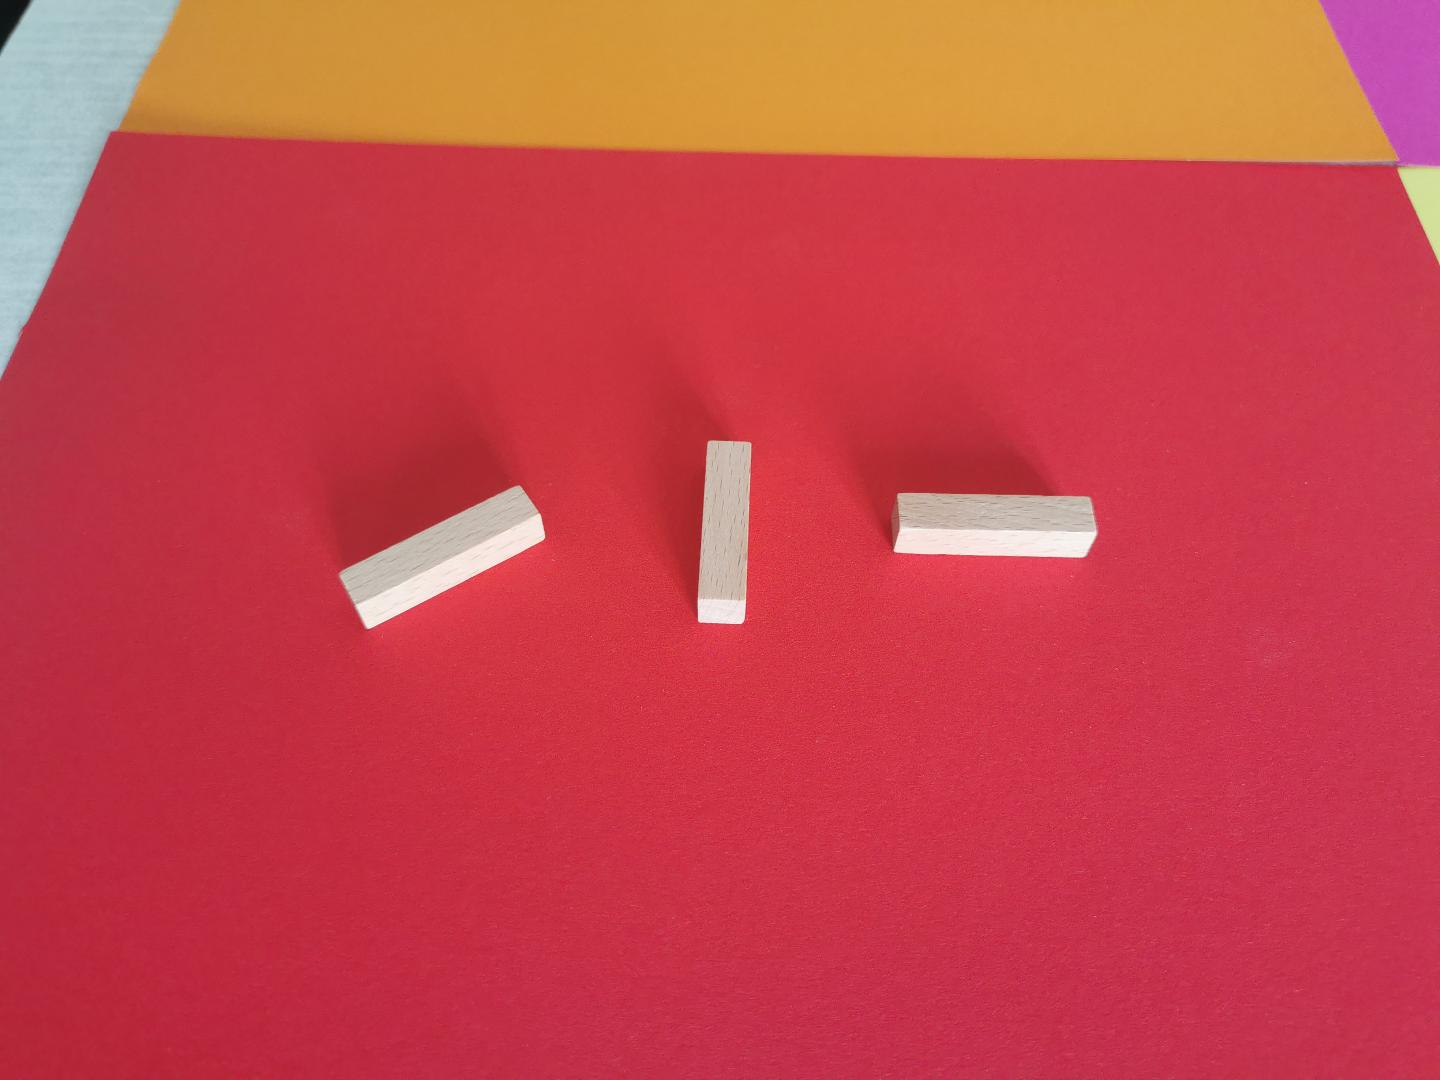jenga: (340, 487, 545, 627), (891, 492, 1096, 557), (697, 441, 751, 624)
